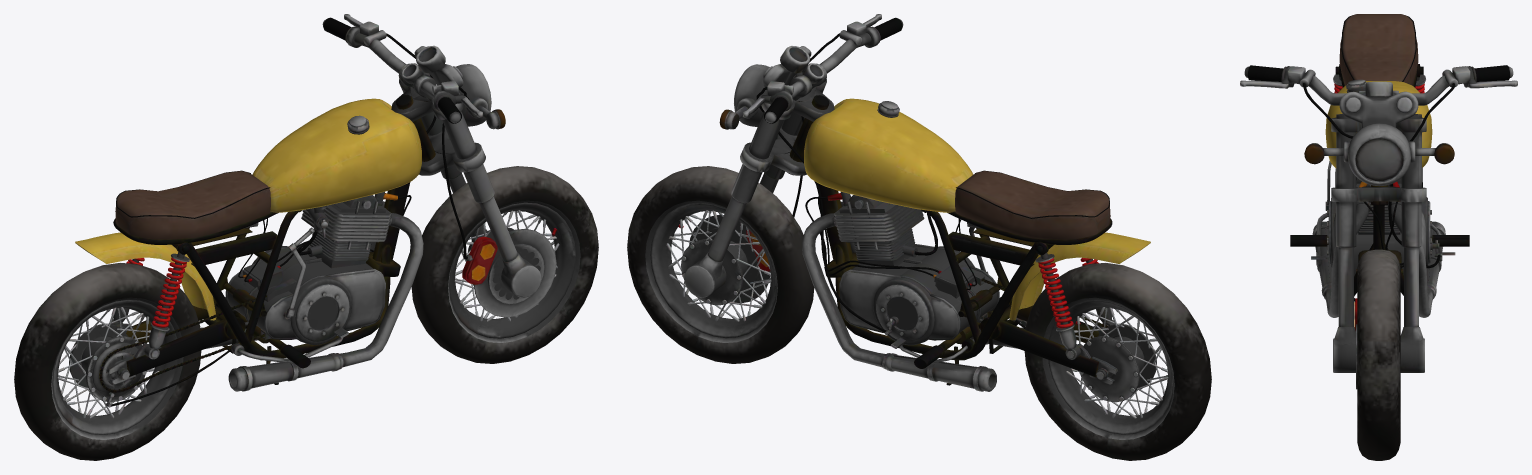
The model's file is bike.glb.
3 renders of one model, left to right at view 1: azimuth 30°, elevation 25°; view 2: azimuth 150°, elevation 25°; view 3: azimuth 270°, elevation 25°, orthographic. The views are drawn at different scales.
Visible parts, largest first — view 1: Cube.042_Material.008_0; view 2: Cube.042_Material.008_0; view 3: Cube.042_Material.008_0.
Part boxes in pixels (x1,y1,x2,y2): Cube.042_Material.008_0: [14, 14, 598, 460]; Cube.042_Material.008_0: [627, 14, 1211, 460]; Cube.042_Material.008_0: [1240, 14, 1517, 460].
Bounding box in the file's own units: 2.2 × 1.2 × 0.898.
Materials: 1 (1 with a texture image).
